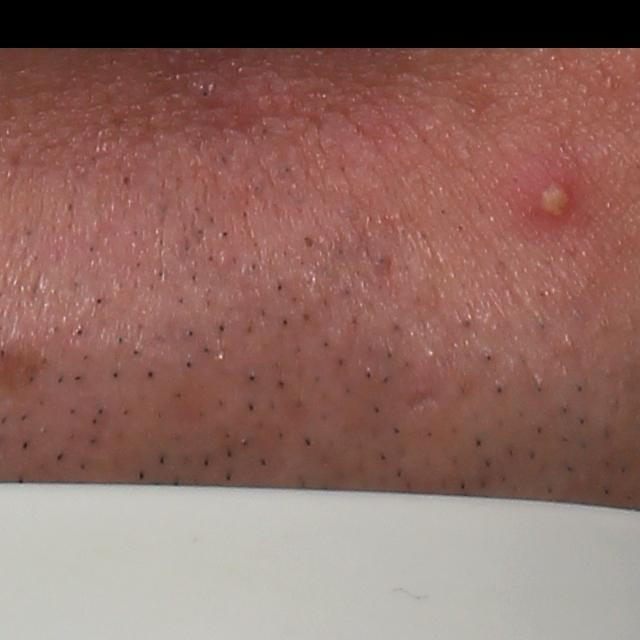atrophic_scar: (406, 386, 446, 417)
pustule: (522, 167, 582, 237)
